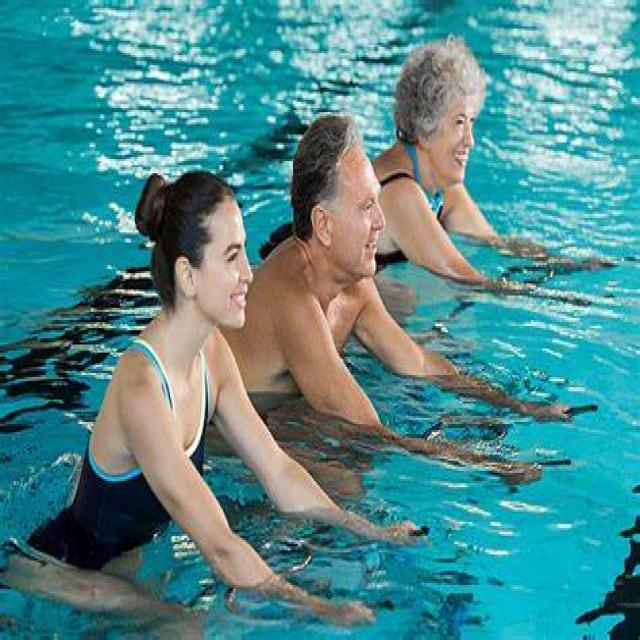swimming: (93, 136, 259, 628), (385, 21, 564, 320), (280, 104, 400, 528)
